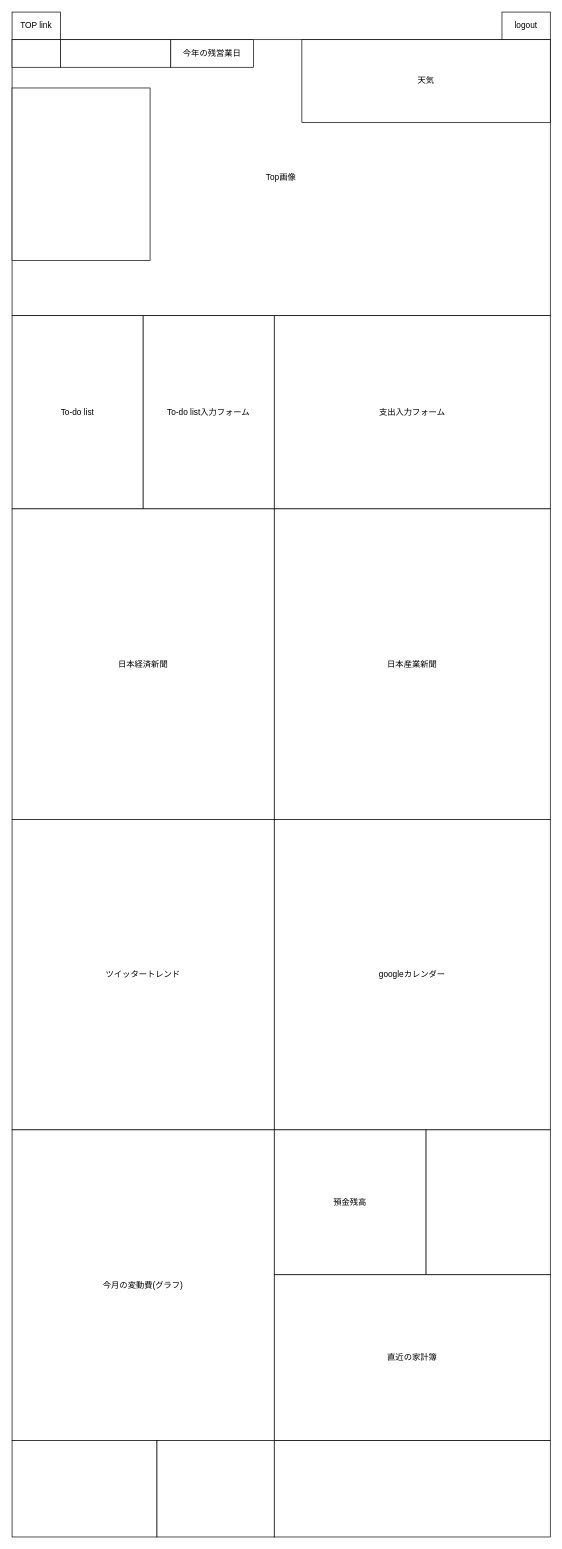
Image size: 562x1549. Some labels were removed from this diagram. The centre of each missing label's shape, as x and y in pixels:
"今月の残業時間" goes at (x=215, y=1488).
"今月の見込み給与" goes at (x=412, y=1488).
"家の温度/湿度/照度" goes at (x=115, y=53).
"日付" goes at (x=35, y=53).
"残有給" goes at (x=84, y=1488).
"見出し" goes at (x=80, y=173).
"預金残高入力フォーム" goes at (x=487, y=1202).
